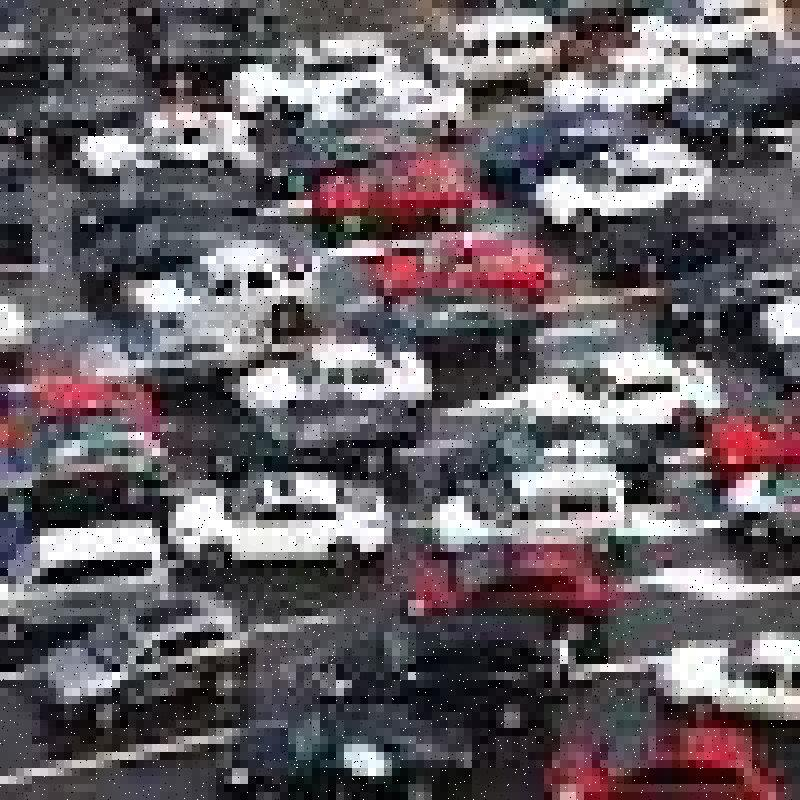car: (162, 462, 401, 586), (264, 322, 480, 407), (300, 244, 318, 251)
